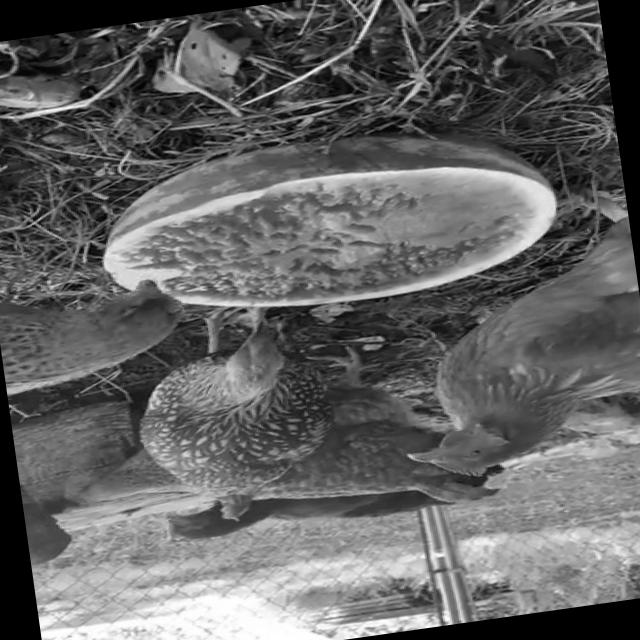feeding: (98, 289, 380, 529), (390, 224, 640, 481), (0, 287, 147, 388)
